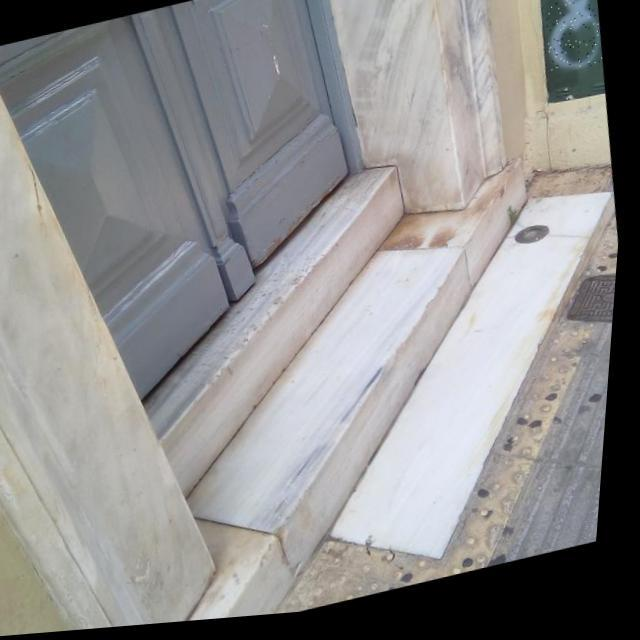-: (527, 0, 611, 87)
